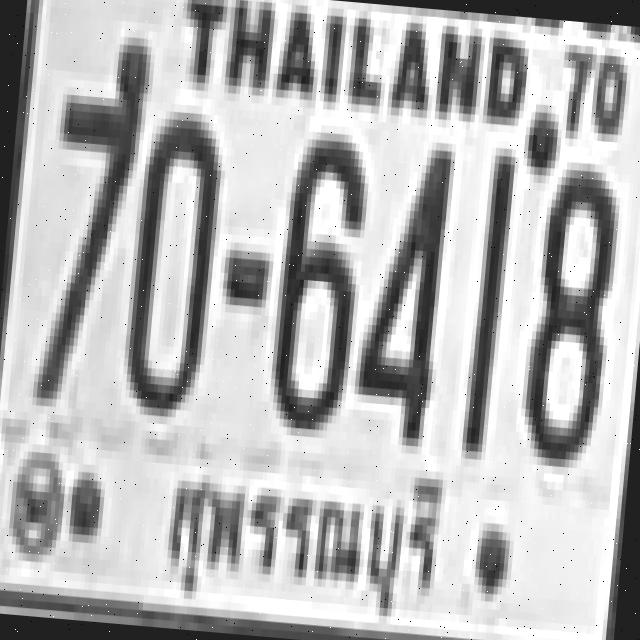0: (120, 101, 222, 412)
1: (458, 146, 512, 452)
4: (350, 137, 452, 439)
6: (267, 122, 369, 424)
7: (28, 23, 148, 404)
8: (517, 160, 619, 462)
SuphanBuri: (157, 438, 456, 626)
